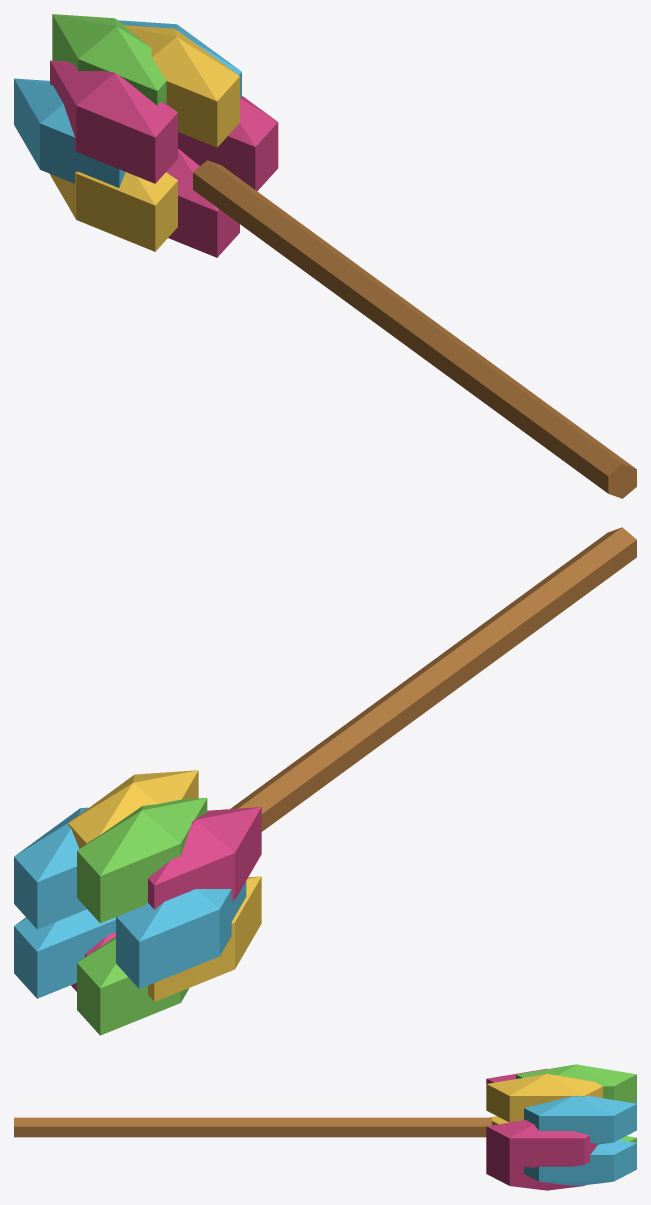
Rendered from feather_duster.glb.
3 renders of one model, top to bottom at view 1: azimuth 30°, elevation 25°; view 2: azimuth 150°, elevation 25°; view 3: azimuth 270°, elevation 25°, orthographic. The views are drawn at different scales.
Visible parts, largest first — view 1: feathers, stick_duster_wood; view 2: feathers, stick_duster_wood; view 3: feathers, stick_duster_wood.
Part boxes in pixels (x1=…): feathers: x1=14, y1=14, x2=278, y2=257; stick_duster_wood: x1=193, y1=160, x2=636, y2=498; feathers: x1=14, y1=770, x2=261, y2=1035; stick_duster_wood: x1=230, y1=527, x2=636, y2=831; feathers: x1=486, y1=1064, x2=636, y2=1190; stick_duster_wood: x1=14, y1=1117, x2=491, y2=1137.
Bounding box in the file's own units: 0.1627 × 0.1751 × 0.8474.
